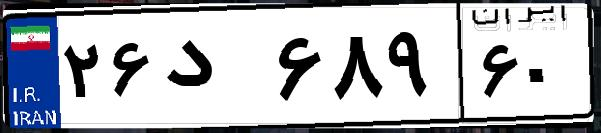0: (525, 38, 570, 115)
2: (57, 26, 110, 100)
6: (270, 28, 330, 110), (475, 38, 525, 113), (110, 28, 158, 98)
8: (330, 28, 385, 110)
9: (385, 28, 445, 110)
د: (158, 20, 270, 120)
